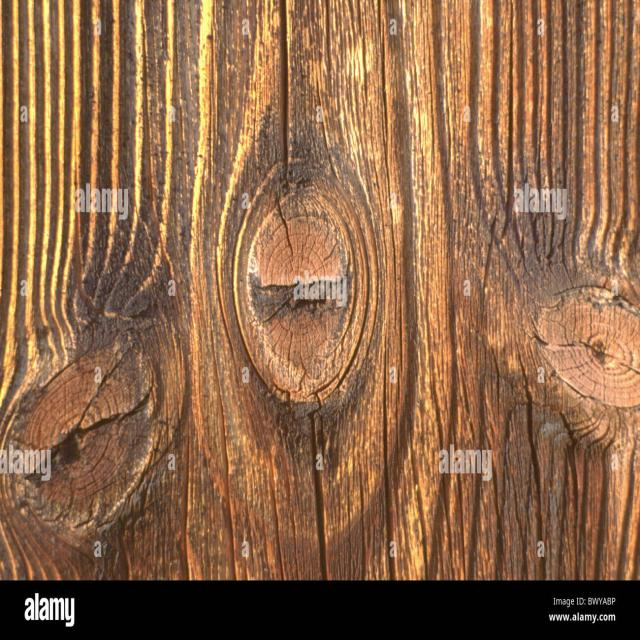have-wooden-eyes: (232, 175, 375, 402), (21, 343, 152, 541), (538, 287, 640, 407)
